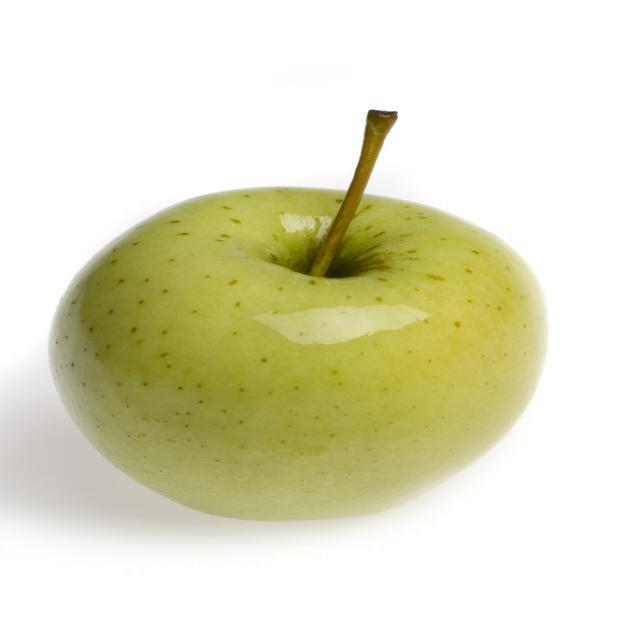Apple: (55, 142, 558, 536)
